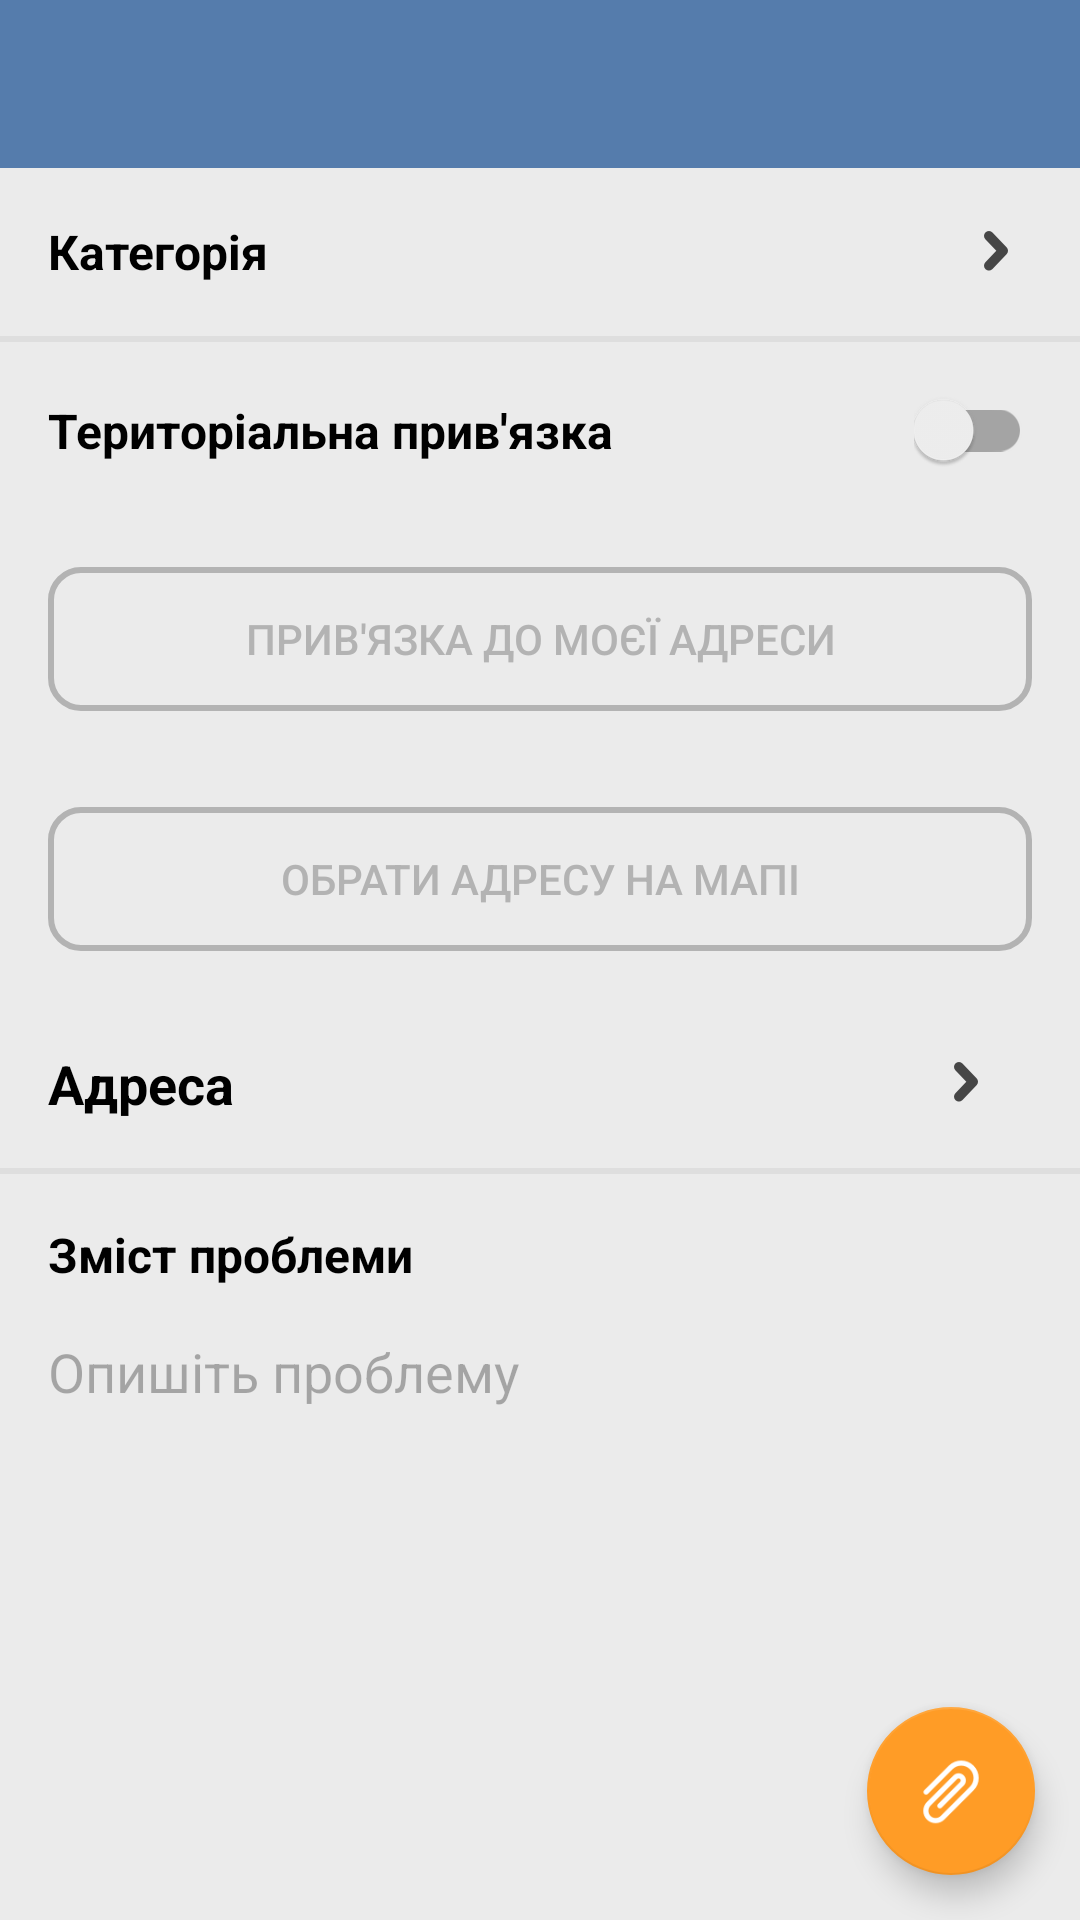

Icons on this 1080x1920 Android screen, each with its box as (x1, y1, x2, y2):
arrow right: (984, 231, 1008, 271), (954, 1062, 978, 1102)
attach fab: (867, 1707, 1035, 1875)
